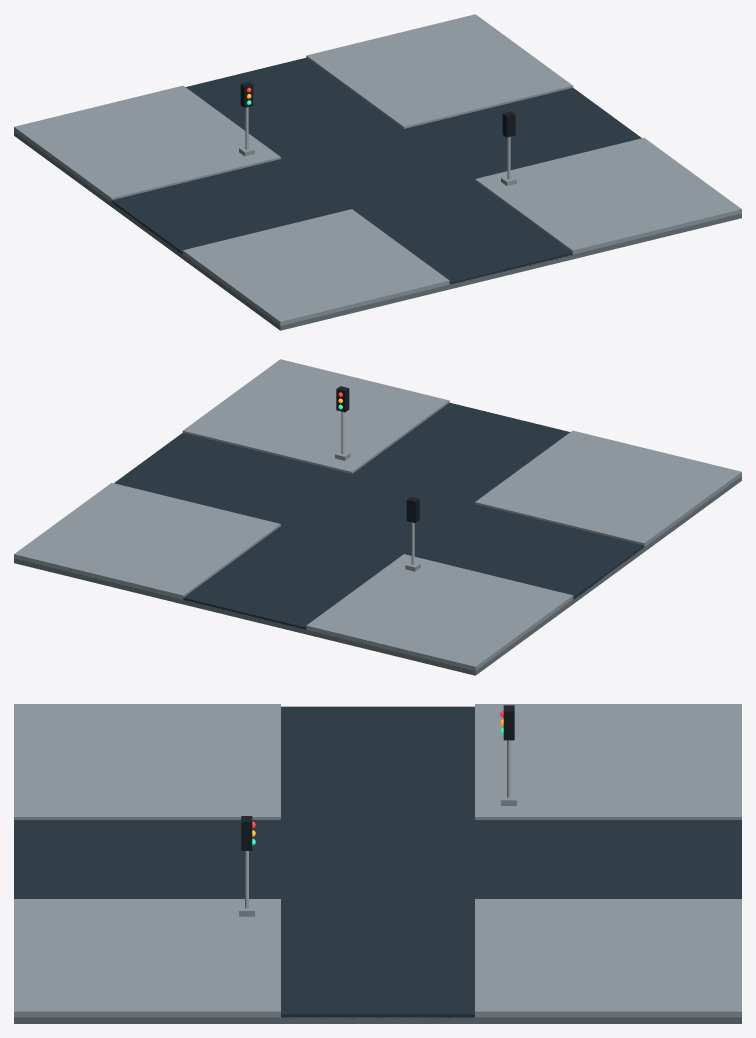
Rendered from road-junction.glb.
The picture shows the model from 3 angles, top to bottom: view 1: azimuth 30°, elevation 25°; view 2: azimuth 150°, elevation 25°; view 3: azimuth 270°, elevation 25°; orthographic projection. The views are drawn at different scales.
Parts seen in each view (by area): view 1: road_east_west, road_north_south, sidewalk_-9.5_9.5, sidewalk_9.5_9.5, sidewalk_-9.5_-9.5, sidewalk_9.5_-9.5, ground; view 2: road_east_west, road_north_south, sidewalk_-9.5_-9.5, sidewalk_9.5_-9.5, sidewalk_-9.5_9.5, sidewalk_9.5_9.5, ground; view 3: road_east_west, road_north_south, sidewalk_9.5_-9.5, sidewalk_9.5_9.5, sidewalk_-9.5_9.5, sidewalk_-9.5_-9.5, ground.
Boxes of the visible parts, x1,y1,x2,y2 form: road_east_west: [111, 88, 641, 254]; road_north_south: [185, 57, 572, 284]; sidewalk_-9.5_9.5: [182, 209, 449, 325]; sidewalk_9.5_9.5: [475, 138, 741, 254]; sidewalk_-9.5_-9.5: [14, 85, 280, 201]; sidewalk_9.5_-9.5: [306, 14, 573, 128]; ground: [14, 131, 741, 330]; road_east_west: [114, 433, 644, 599]; road_north_south: [183, 402, 570, 629]; sidewalk_-9.5_-9.5: [306, 554, 573, 670]; sidewalk_9.5_-9.5: [14, 483, 280, 599]; sidewalk_-9.5_9.5: [475, 430, 741, 546]; sidewalk_9.5_9.5: [182, 359, 449, 473]; ground: [14, 476, 741, 675]; road_east_west: [281, 706, 474, 1018]; road_north_south: [14, 820, 741, 898]; sidewalk_9.5_-9.5: [475, 899, 741, 1017]; sidewalk_9.5_9.5: [14, 899, 280, 1017]; sidewalk_-9.5_9.5: [14, 704, 280, 819]; sidewalk_-9.5_-9.5: [475, 704, 741, 819]; ground: [14, 1017, 741, 1023].
Size of the model in its own units: 30 by 4.84 by 30.
